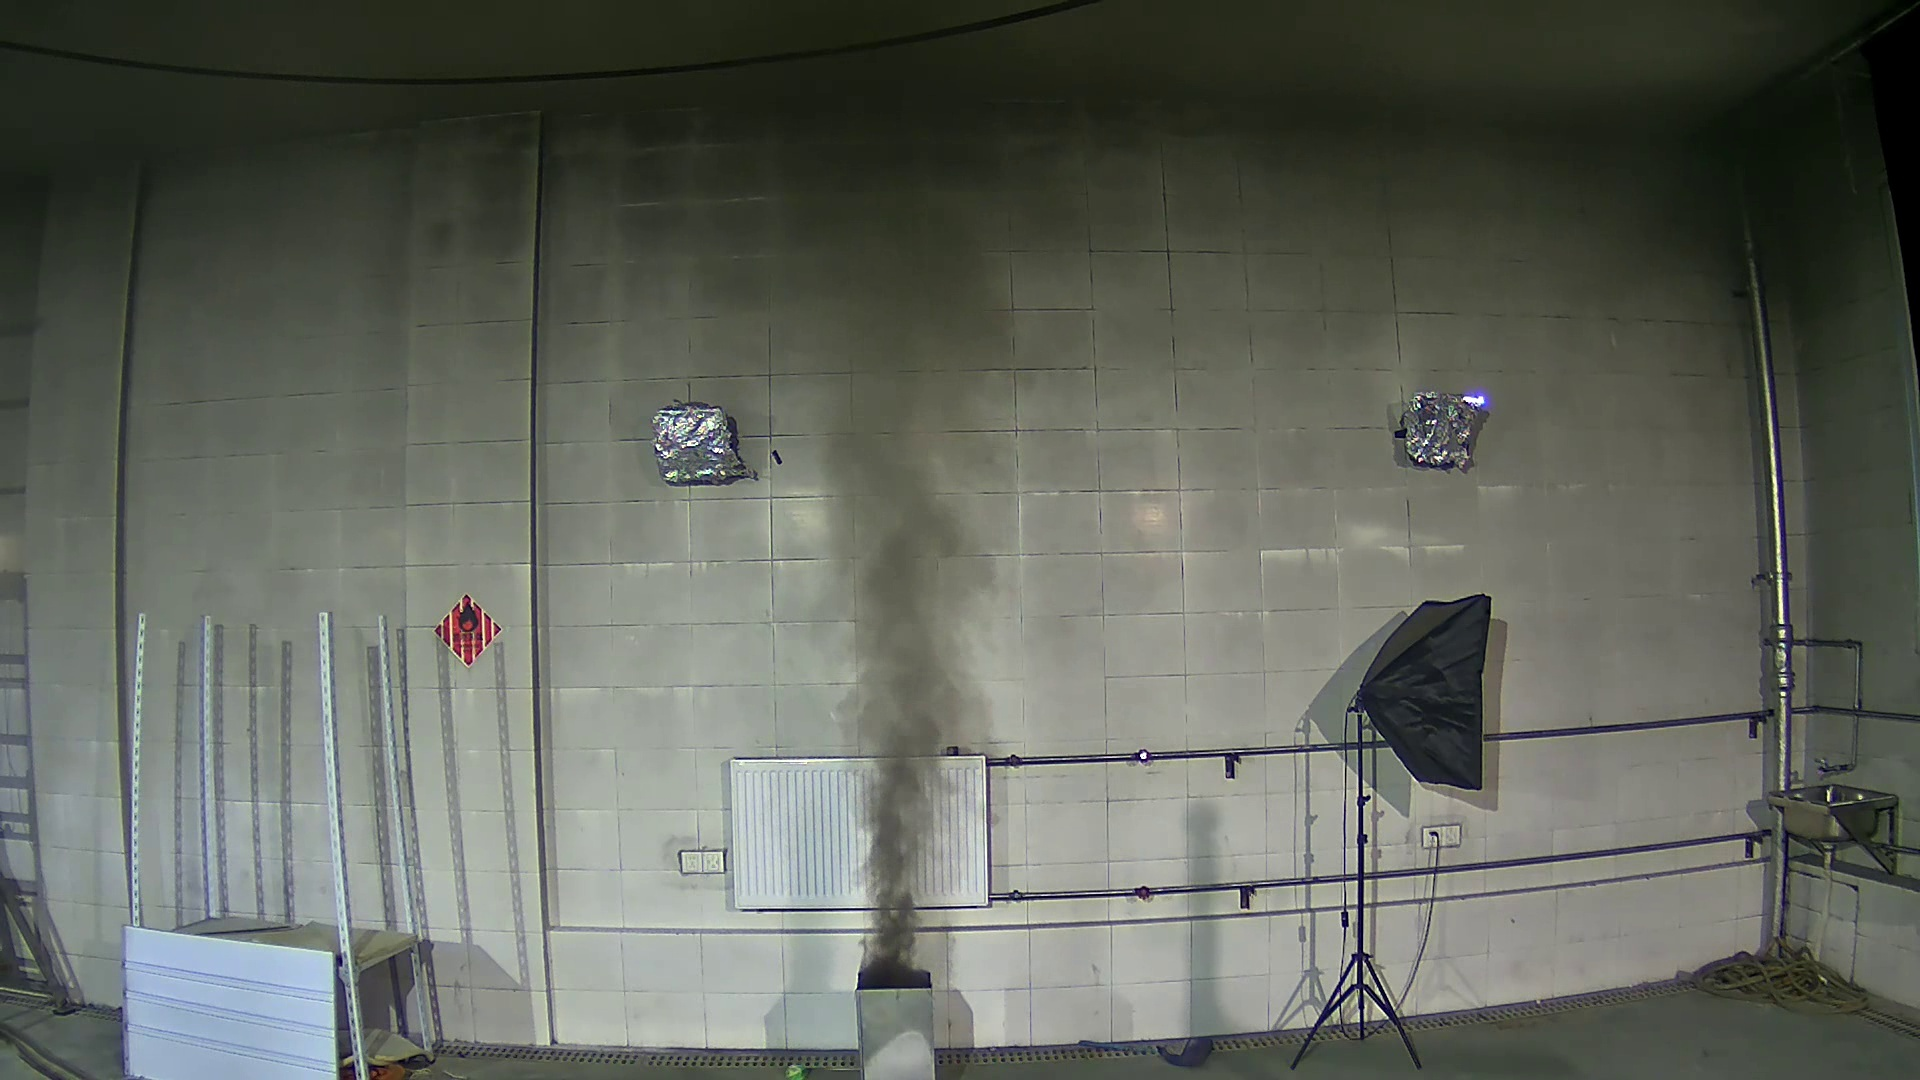smoke: (796, 397, 1017, 975)
